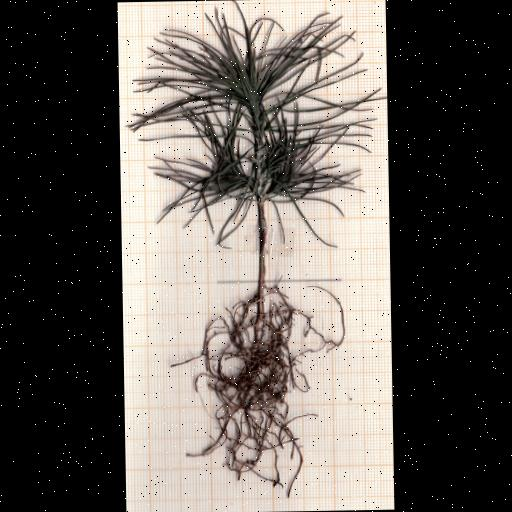flowerCedr: (134, 1, 378, 247)
rootCedr: (185, 285, 346, 496)
stemCedr: (258, 201, 269, 298)
